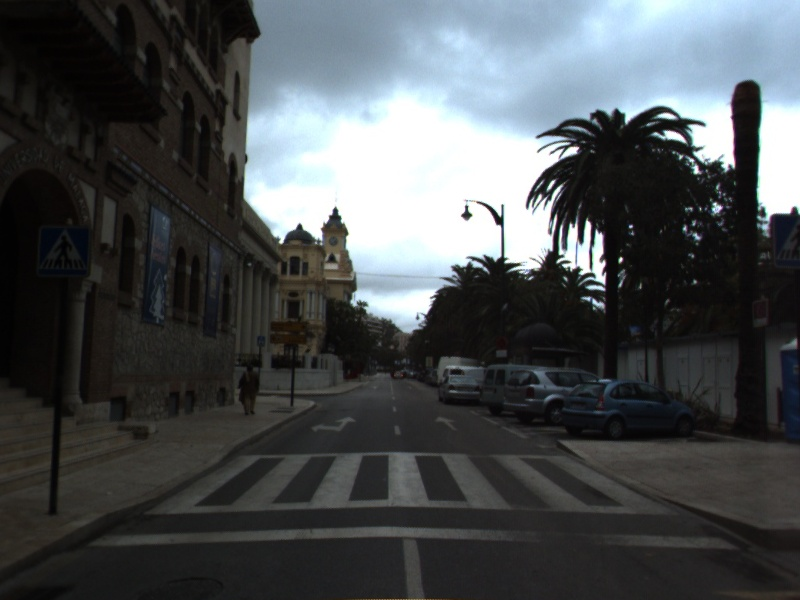STRAIGHT: (432, 414, 460, 433)
STRAIGHT_LEFT: (308, 414, 359, 435)
